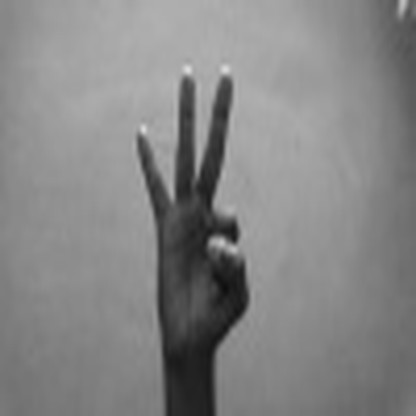f: (121, 55, 268, 360)
